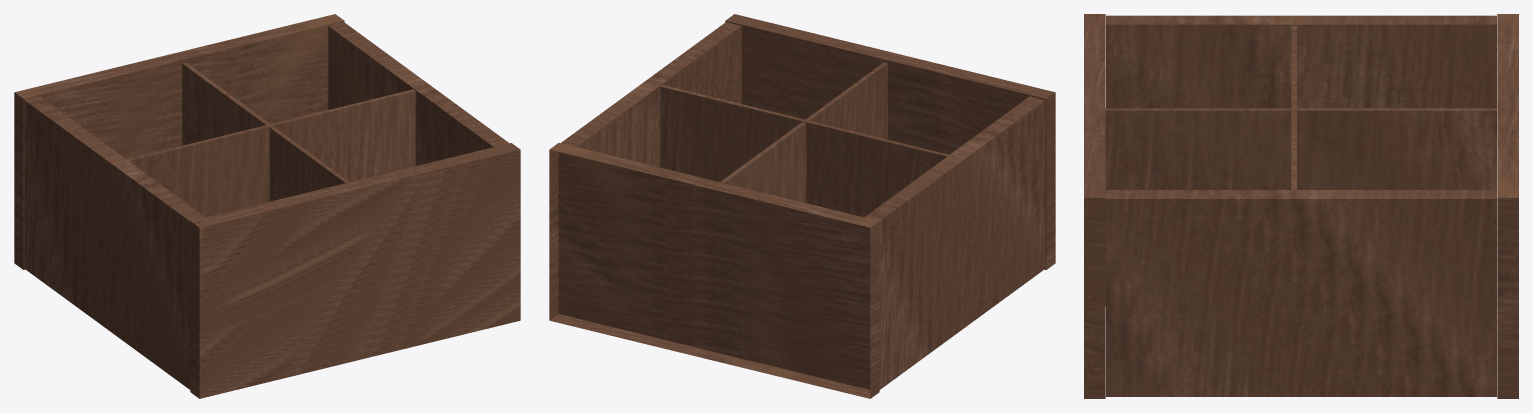
Rendered from wood3.obj.
3 renders of one model, left to right at view 1: azimuth 30°, elevation 25°; view 2: azimuth 150°, elevation 25°; view 3: azimuth 270°, elevation 25°, orthographic. The views are drawn at different scales.
Visible parts, largest first — view 1: SquareShelf; view 2: SquareShelf; view 3: SquareShelf.
Part boxes in pixels (left/top/right/bottom): SquareShelf: left=14, top=14, right=520, bottom=398; SquareShelf: left=549, top=14, right=1055, bottom=398; SquareShelf: left=1084, top=14, right=1518, bottom=398.
Size of the model in its own units: 0.7687 by 0.3919 by 0.7682.
Materials: 1 (1 with a texture image).
